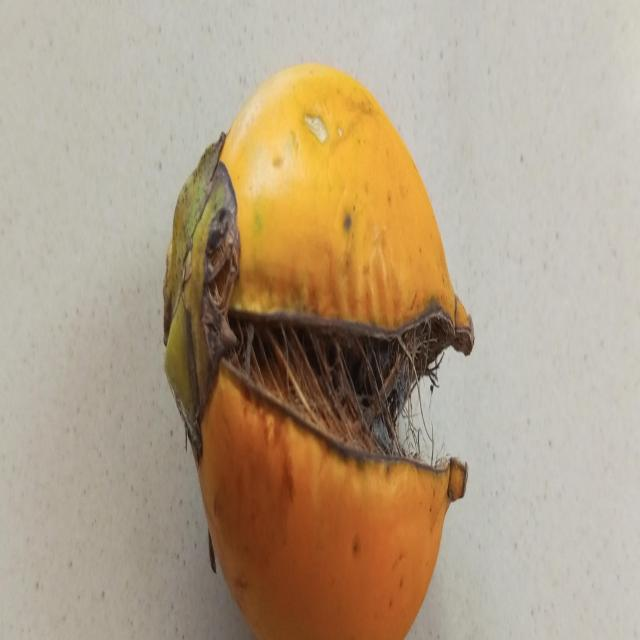damaged: (161, 64, 476, 640)
